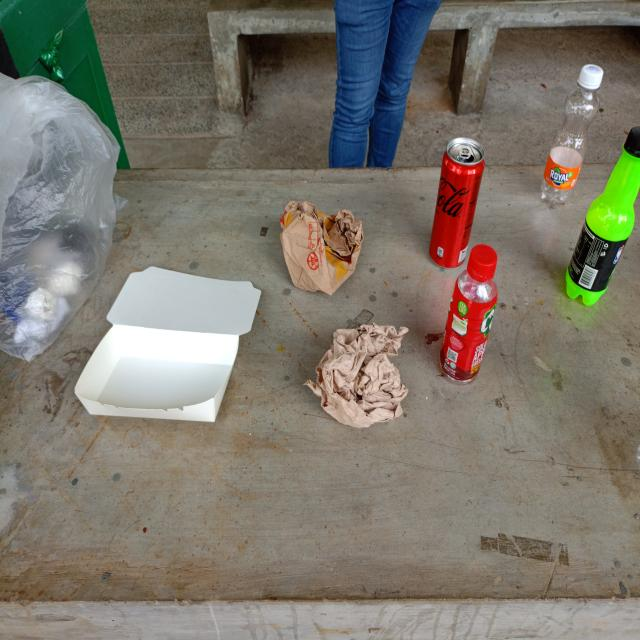Anorganik: (563, 123, 640, 308), (539, 62, 604, 206), (439, 244, 499, 382), (430, 136, 484, 268)
Organik: (73, 265, 263, 427), (306, 324, 407, 426), (279, 196, 363, 298)
